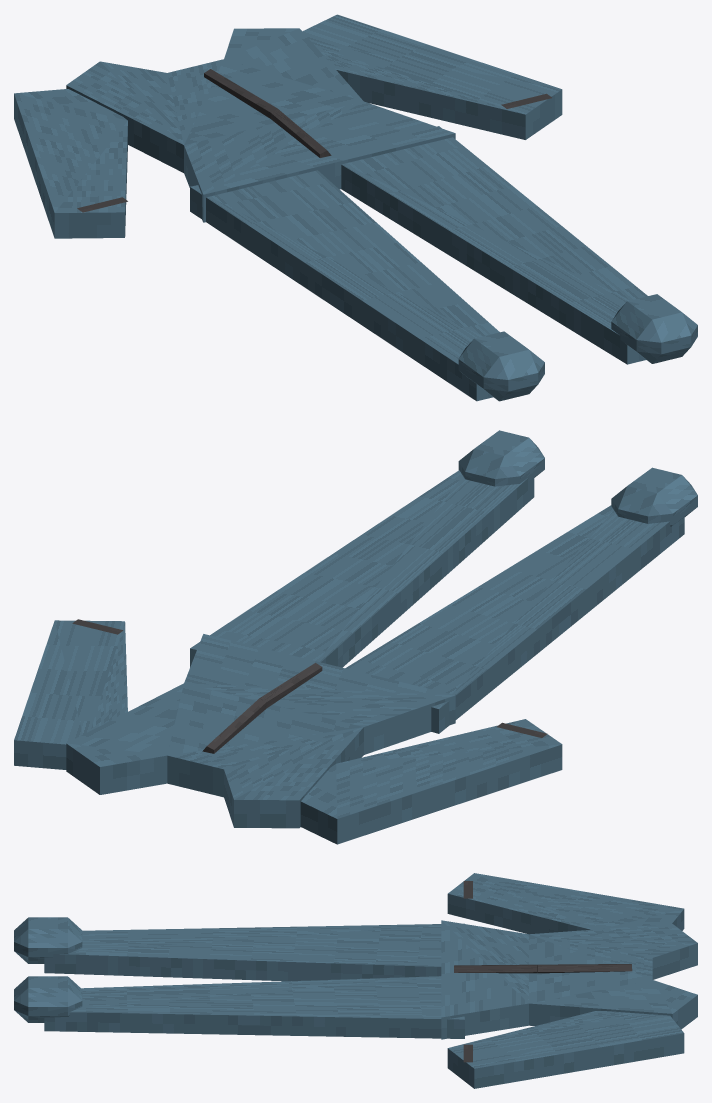
File: bodysuit_lycra.glb
3 renders of one model, top to bottom at view 1: azimuth 30°, elevation 25°; view 2: azimuth 150°, elevation 25°; view 3: azimuth 270°, elevation 25°, orthographic. The views are drawn at different scales.
Parts seen in each view (by area): view 1: block_integral trouser leg (×2), block_suit torso, block_sleeve (×2), block_integral fabric foot (×2), block_sealed front zipper 0, block_sealed front zipper 1; view 2: block_integral trouser leg (×2), block_suit torso, block_sleeve (×2), block_integral fabric foot (×2), block_sealed front zipper 0, block_sealed front zipper 1; view 3: block_integral trouser leg (×2), block_suit torso, block_sleeve (×2), block_integral fabric foot (×2), block_sealed front zipper 0, block_sealed front zipper 1.
Boxes of the visible parts, x1=… form: block_integral trouser leg (×2): x1=190, y1=126, x2=647, y2=401; block_suit torso: x1=66, y1=28, x2=455, y2=222; block_sleeve (×2): x1=14, y1=14, x2=562, y2=238; block_integral fabric foot (×2): x1=458, y1=294, x2=697, y2=401; block_sealed front zipper 0: x1=204, y1=69, x2=277, y2=118; block_sealed front zipper 1: x1=270, y1=108, x2=331, y2=157; block_integral trouser leg (×2): x1=190, y1=470, x2=684, y2=733; block_suit torso: x1=66, y1=634, x2=455, y2=828; block_sleeve (×2): x1=14, y1=620, x2=562, y2=844; block_integral fabric foot (×2): x1=458, y1=430, x2=697, y2=526; block_sealed front zipper 0: x1=202, y1=698, x2=266, y2=753; block_sealed front zipper 1: x1=259, y1=663, x2=322, y2=707; block_integral trouser leg (×2): x1=44, y1=923, x2=464, y2=1038; block_suit torso: x1=441, y1=920, x2=697, y2=1039; block_sleeve (×2): x1=447, y1=873, x2=684, y2=1088; block_integral fabric foot (×2): x1=14, y1=917, x2=82, y2=1022; block_sealed front zipper 0: x1=537, y1=964, x2=632, y2=973; block_sealed front zipper 1: x1=454, y1=964, x2=537, y2=973.
Bounding box in the file's own units: 0.4624 × 0.0424 × 0.6829.
Materials: 1 (1 with a texture image).
